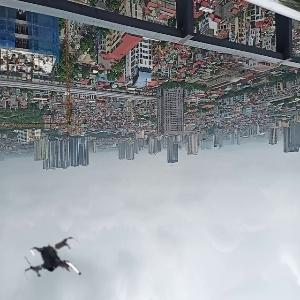drone: (22, 231, 92, 300)
